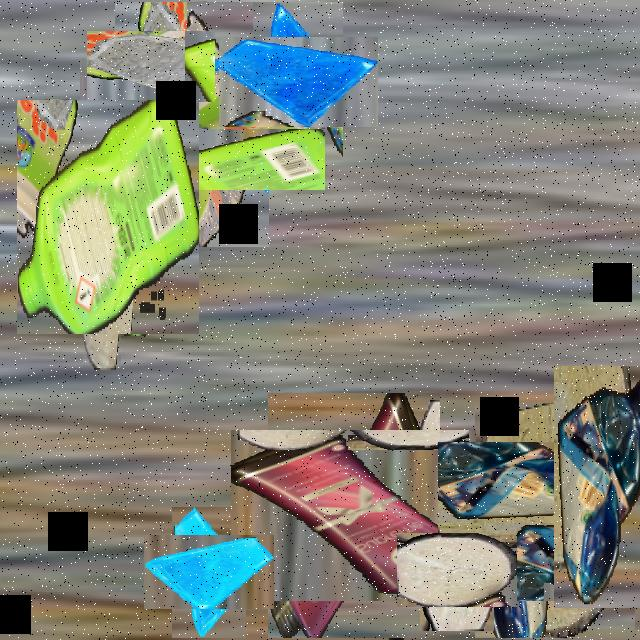glass: (236, 19, 360, 144), (158, 521, 260, 624), (101, 16, 201, 116)
plastic: (250, 411, 458, 620), (17, 100, 199, 334), (109, 30, 297, 219), (554, 366, 640, 608)
wood: (456, 422, 640, 619), (408, 522, 506, 619), (59, 262, 144, 346)
